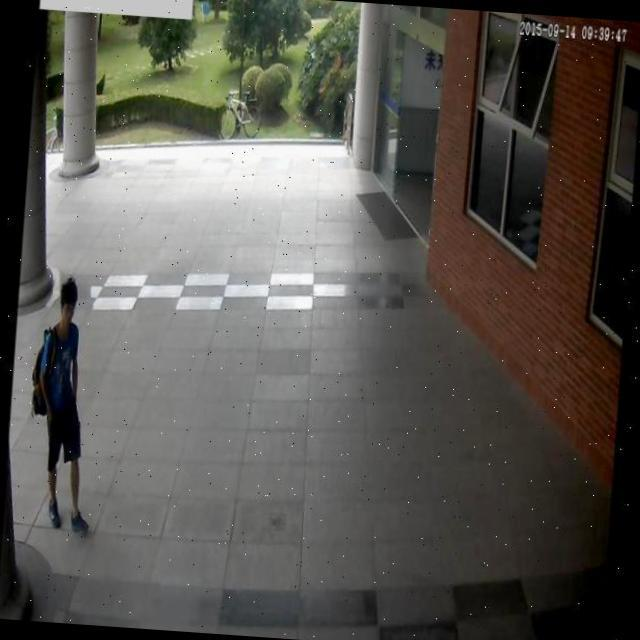person: (26, 269, 109, 543)
